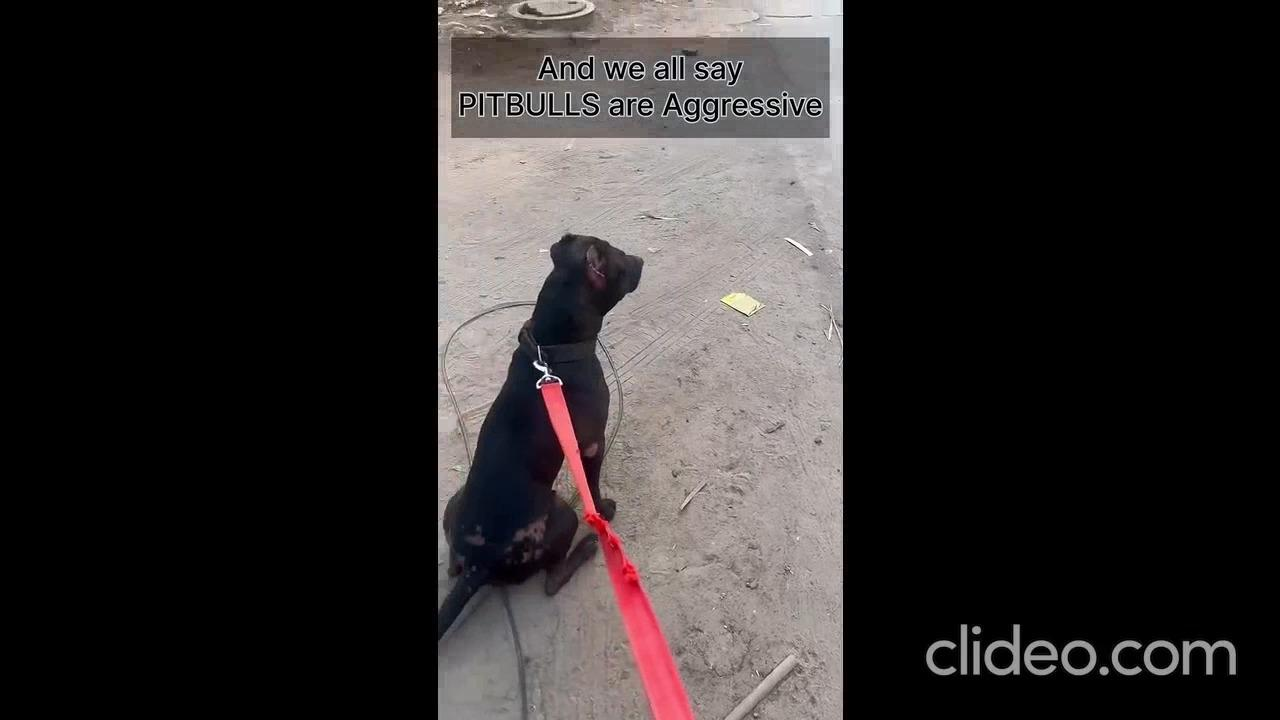dog: (436, 227, 646, 640)
